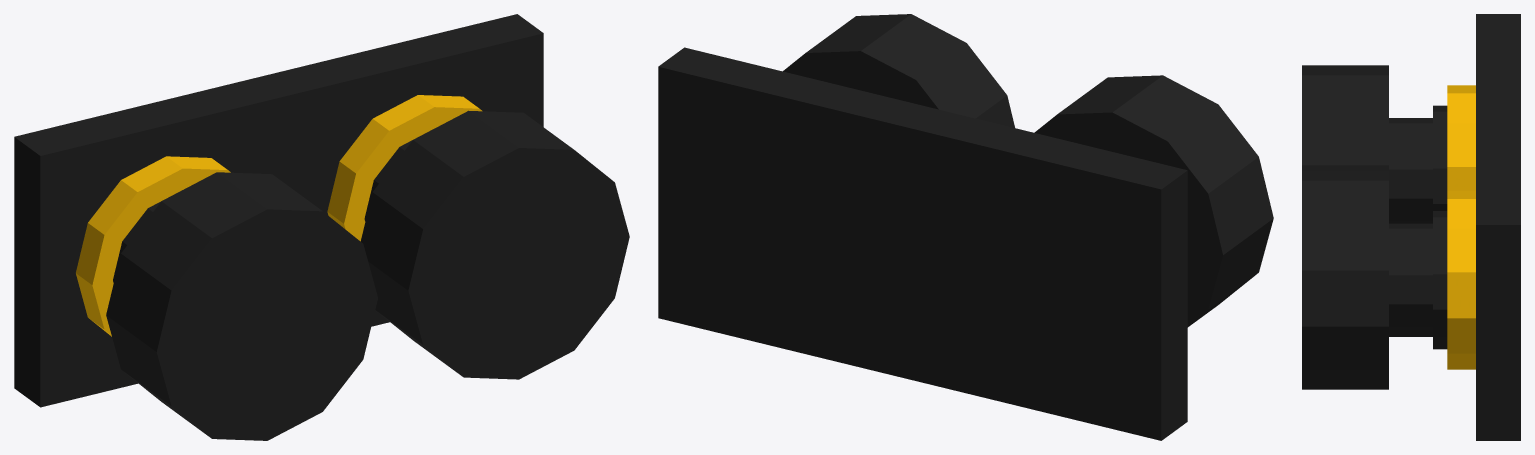
Rendered from Prop_Industrial_Piston_Wall_01.FBX.
The picture shows the model from 3 angles, left to right: view 1: azimuth 30°, elevation 25°; view 2: azimuth 150°, elevation 25°; view 3: azimuth 270°, elevation 25°; orthographic projection. The views are drawn at different scales.
Visible parts, largest first — view 1: Prop_Industrial_Piston_Wall_01; view 2: Prop_Industrial_Piston_Wall_01; view 3: Prop_Industrial_Piston_Wall_01.
Boxes of the visible parts, x1,y1,x2,y2 form: Prop_Industrial_Piston_Wall_01: (14, 14, 629, 440); Prop_Industrial_Piston_Wall_01: (658, 14, 1273, 440); Prop_Industrial_Piston_Wall_01: (1302, 14, 1520, 440).
Bounding box in the file's own units: 2454 × 1172 × 1076.
